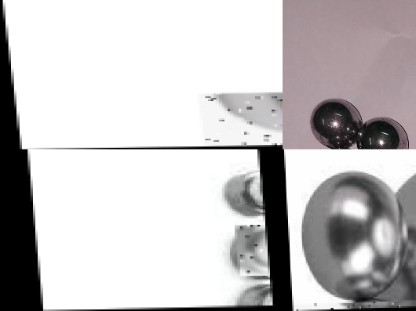ironball: (291, 163, 410, 305), (372, 150, 415, 309), (192, 93, 282, 147), (210, 155, 262, 214), (311, 99, 365, 148), (364, 110, 415, 148), (230, 226, 267, 278), (289, 301, 415, 311), (247, 281, 269, 307)
